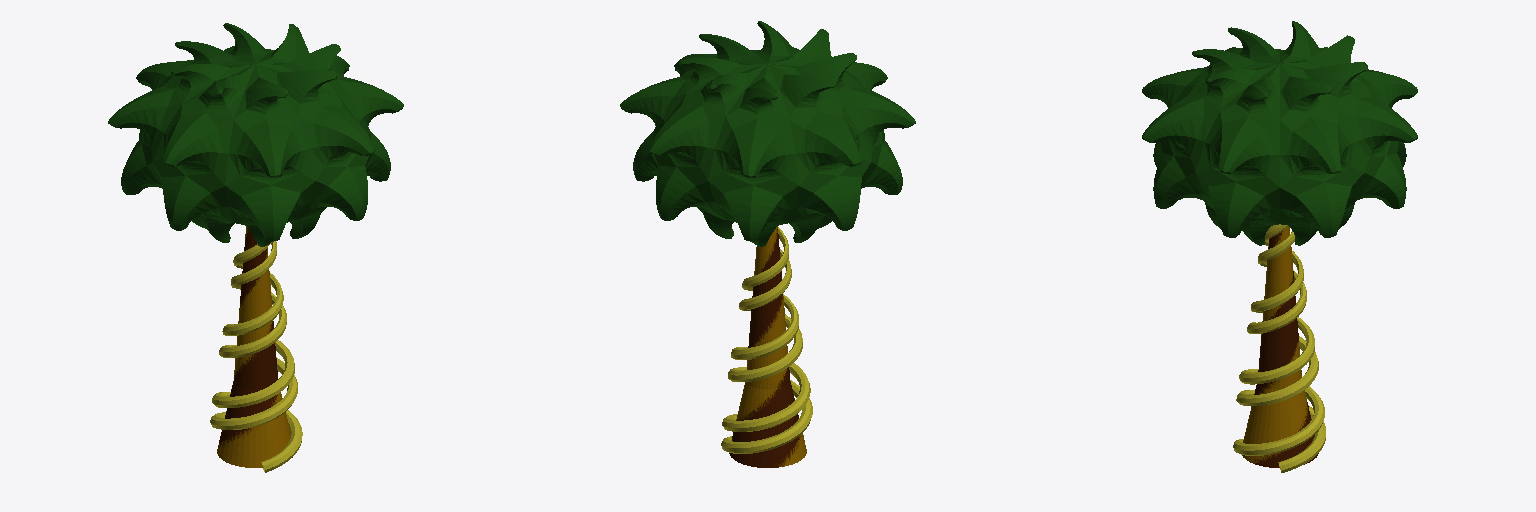
The picture shows the model from 3 angles: view 1: azimuth 30°, elevation 25°; view 2: azimuth 150°, elevation 25°; view 3: azimuth 270°, elevation 25°; orthographic projection.
Parts seen in each view (by area): view 1: Leaves, Tree, Vines; view 2: Leaves, Tree, Vines; view 3: Leaves, Vines, Tree.
Part boxes in pixels (bbox=[...]): Leaves: bbox=[108, 23, 403, 246]; Tree: bbox=[217, 226, 292, 467]; Vines: bbox=[210, 241, 302, 472]; Leaves: bbox=[620, 21, 915, 246]; Tree: bbox=[729, 226, 806, 467]; Vines: bbox=[721, 227, 812, 453]; Leaves: bbox=[1142, 21, 1417, 245]; Vines: bbox=[1233, 224, 1325, 472]; Tree: bbox=[1242, 225, 1318, 467].
Bounding box in the file's own units: 45.92 × 73.19 × 45.92.
Materials: 3 (3 with a texture image).